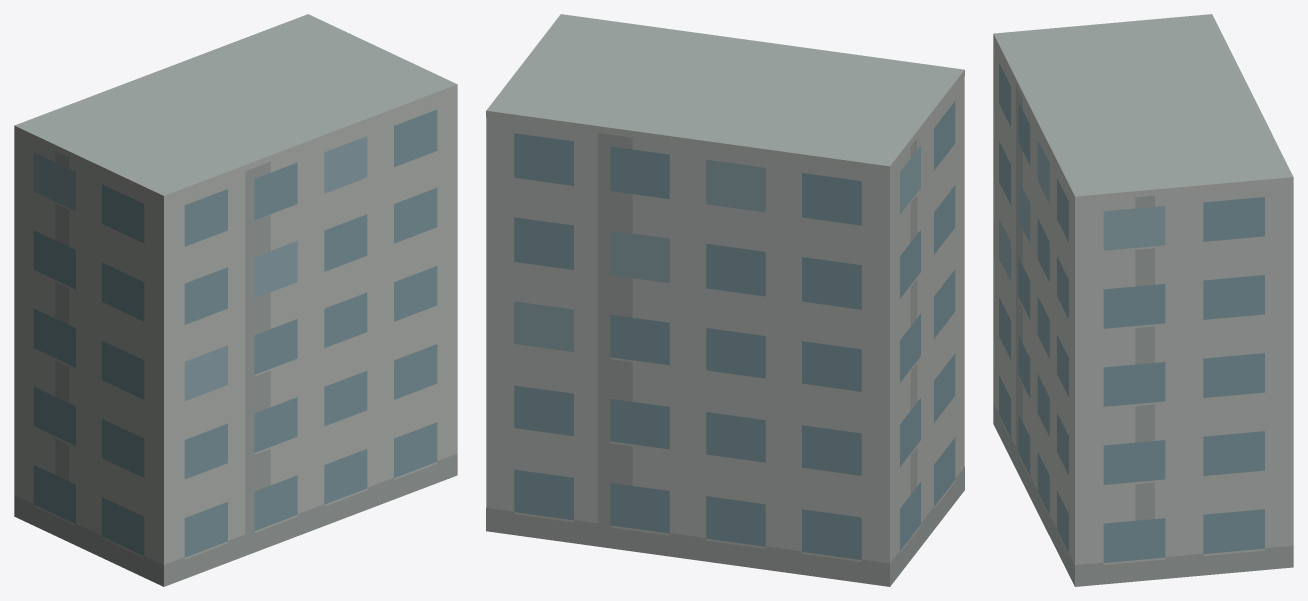
The model's file is residential-d222e6db-138d-4172-bf7c-9a1090046f1b.glb.
The picture shows the model from 3 angles, left to right: view 1: azimuth 30°, elevation 25°; view 2: azimuth 150°, elevation 25°; view 3: azimuth 270°, elevation 25°; orthographic projection. The views are drawn at different scales.
Parts seen in each view (by area): view 1: residential-d222e6db-138d-4172-bf7c-9a1090046f1b.tmp; view 2: residential-d222e6db-138d-4172-bf7c-9a1090046f1b.tmp; view 3: residential-d222e6db-138d-4172-bf7c-9a1090046f1b.tmp.
Part boxes in pixels (x1,y1,x2,y2): residential-d222e6db-138d-4172-bf7c-9a1090046f1b.tmp: [14, 14, 457, 586]; residential-d222e6db-138d-4172-bf7c-9a1090046f1b.tmp: [486, 14, 964, 586]; residential-d222e6db-138d-4172-bf7c-9a1090046f1b.tmp: [993, 14, 1293, 586].
Size of the model in its own units: 15.31 by 15.25 by 10.64.
